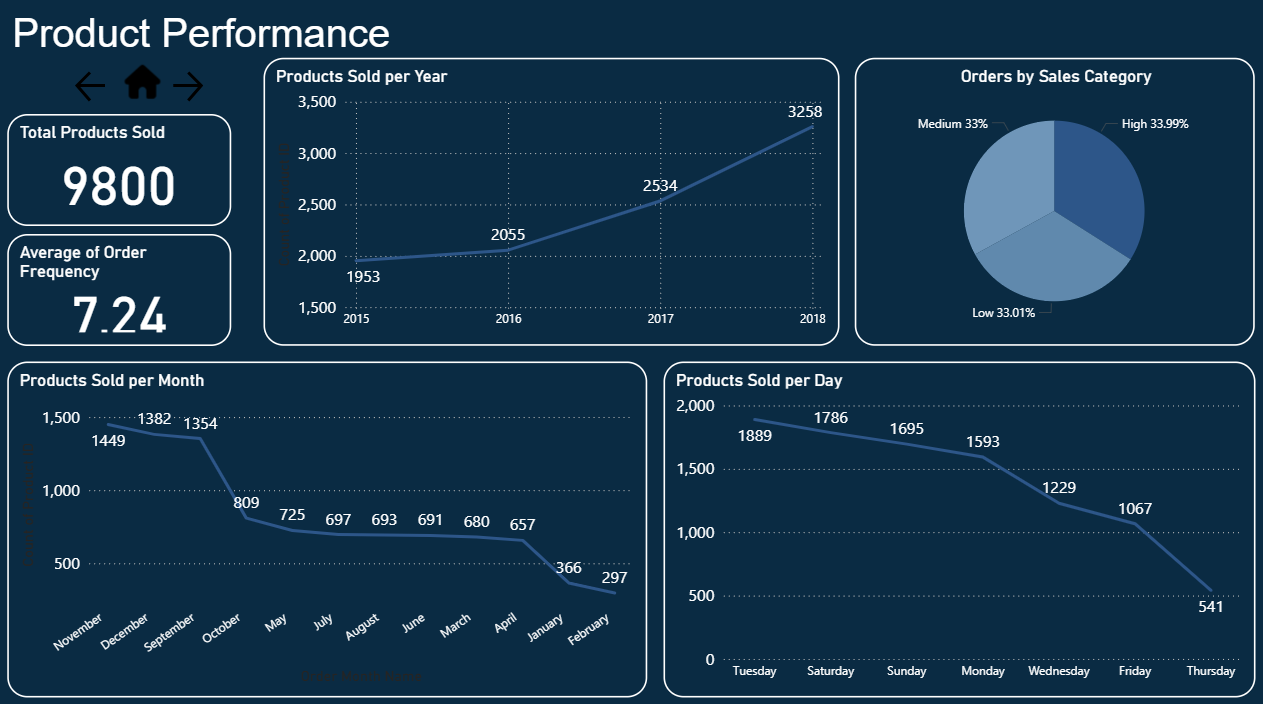

What the dashboard file says about the page in this screenshot:
{"tool":"powerbi","page":{"name":"Product Performance","canvas":[1280,720],"ordinal":3},"visuals":[{"type":"card","title":"Total Products Sold","fields":{"Values":["CountNonNull(Final-project by Excel.Product Name)"]},"box":[16,120,224,112],"z":0},{"type":"lineChart","title":"Products Sold per Year","fields":{"Category":["Final-project by Excel.Order year"],"Y":["CountNonNull(Final-project by Excel.Product ID)"]},"box":[272,64,576,288],"z":1000},{"type":"lineChart","title":"Products Sold per Month","fields":{"Category":["Final-project by Excel.Order Month Name"],"Y":["CountNonNull(Final-project by Excel.Product ID)"]},"box":[16,368,640,336],"z":2000},{"type":"lineChart","title":"Products Sold per Day","fields":{"Category":["Final-project by Excel.Order Day Name"],"Y":["CountNonNull(Final-project by Excel.Product ID)"]},"box":[672,368,592,336],"z":3000},{"type":"textbox","title":"Product Performance","box":[16,16,400,48],"z":4000},{"type":"card","title":"Average of Order Frequency","fields":{"Values":["Avg(Final-project by Excel.Order Frequency)"]},"box":[16,240,224,112],"z":5000},{"type":"pieChart","title":"Orders by Sales Category","fields":{"Category":["Final-project by Excel.Sales Category"],"Y":["CountNonNull(Final-project by Excel.Order ID)"]},"box":[864,64,400,288],"z":6000},{"type":"actionButton","box":[128,64,48,48],"z":7000},{"type":"actionButton","box":[176,72,40,40],"z":8000},{"type":"actionButton","box":[80,72,48,40],"z":9000}]}

Visuals, with their boxes in screenshot pixels (x1, y1, x2, y2), scaled from the page's 1280x720 canvas onto the 1263x704 screenshot:
"Total Products Sold" card: BBox(16, 117, 237, 227)
"Products Sold per Year" lineChart: BBox(268, 63, 837, 344)
"Products Sold per Month" lineChart: BBox(16, 360, 647, 688)
"Products Sold per Day" lineChart: BBox(663, 360, 1247, 688)
"Product Performance" textbox: BBox(16, 16, 410, 63)
"Average of Order Frequency" card: BBox(16, 235, 237, 344)
"Orders by Sales Category" pieChart: BBox(853, 63, 1247, 344)
actionButton: BBox(126, 63, 174, 110)
actionButton: BBox(174, 70, 213, 110)
actionButton: BBox(79, 70, 126, 110)
